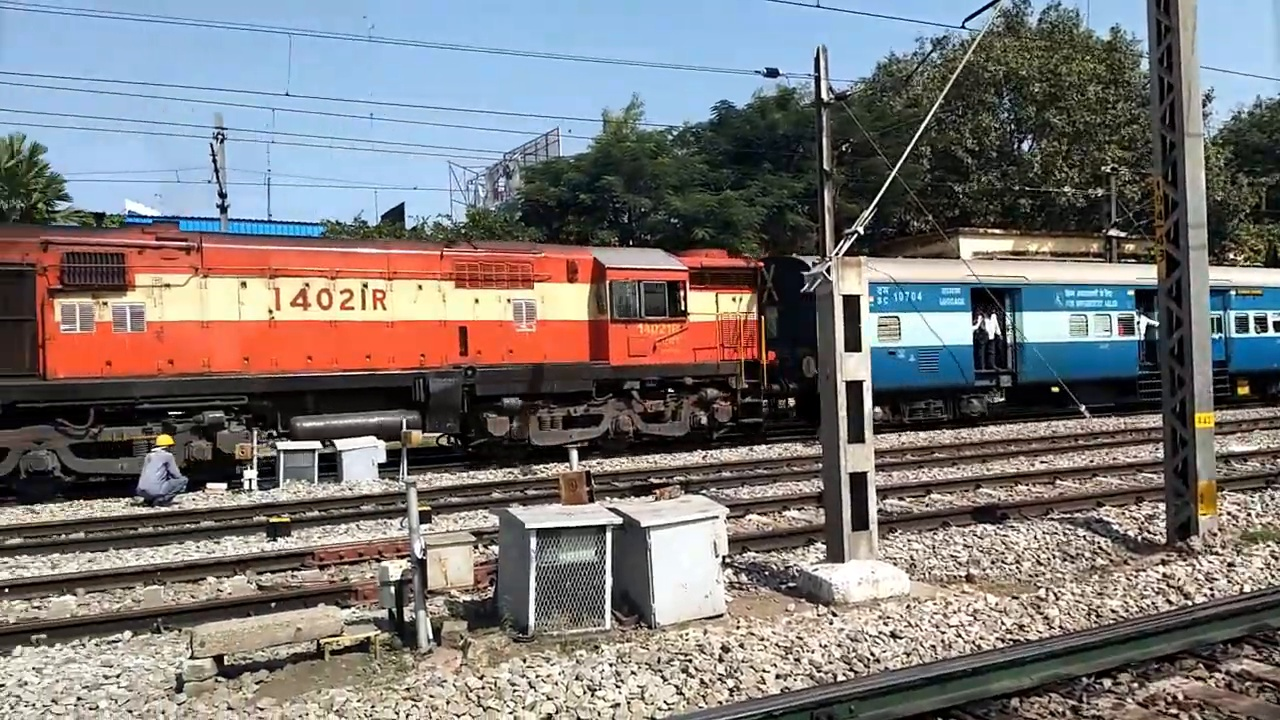Boogie: (891, 288, 932, 305)
Engine: (256, 275, 402, 323)
